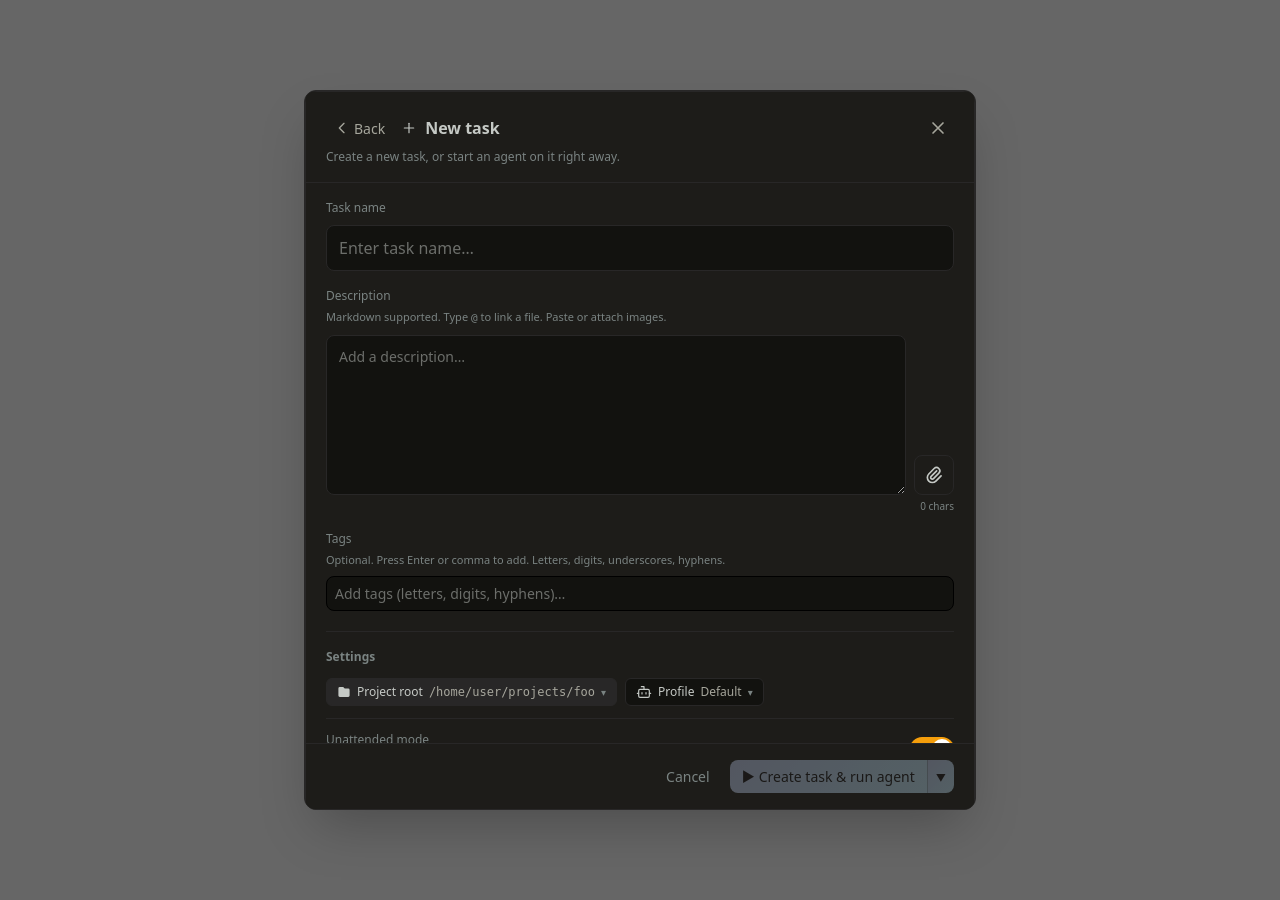
Test: KanbanTaskDetailDialog — layout › create mode: cwd picker opens at cwd_session (folder query fix) › when cwd_session is set, the picker opens AT cwd_session (not at "/")
Step 1. Click the button with test id "kanban-task-detail-cwd-picker" → (472, 692), box [326,678,617,706]
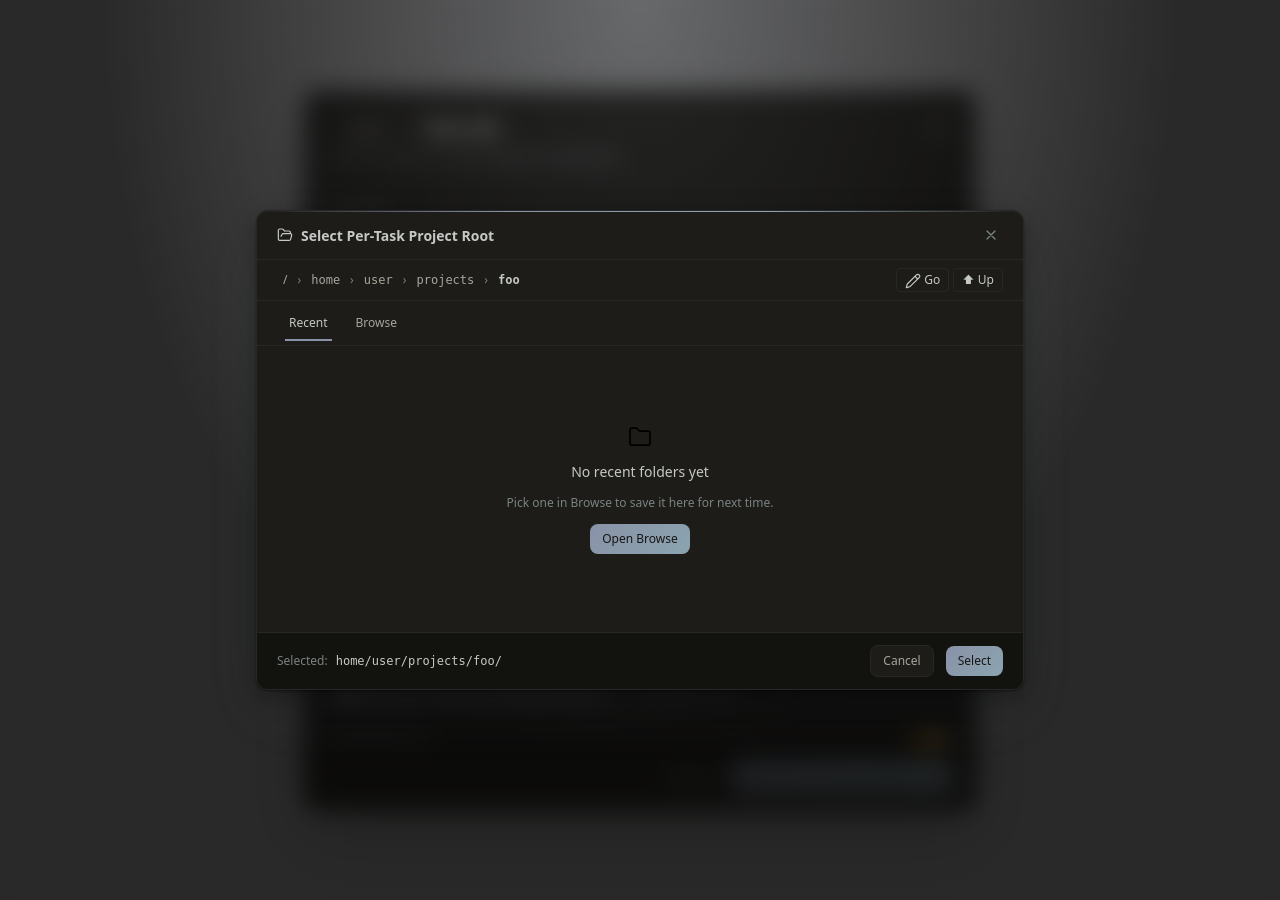
Step 2. Click the tab with test id "file-picker-tab-browse" → (376, 323), box [344,305,409,341]
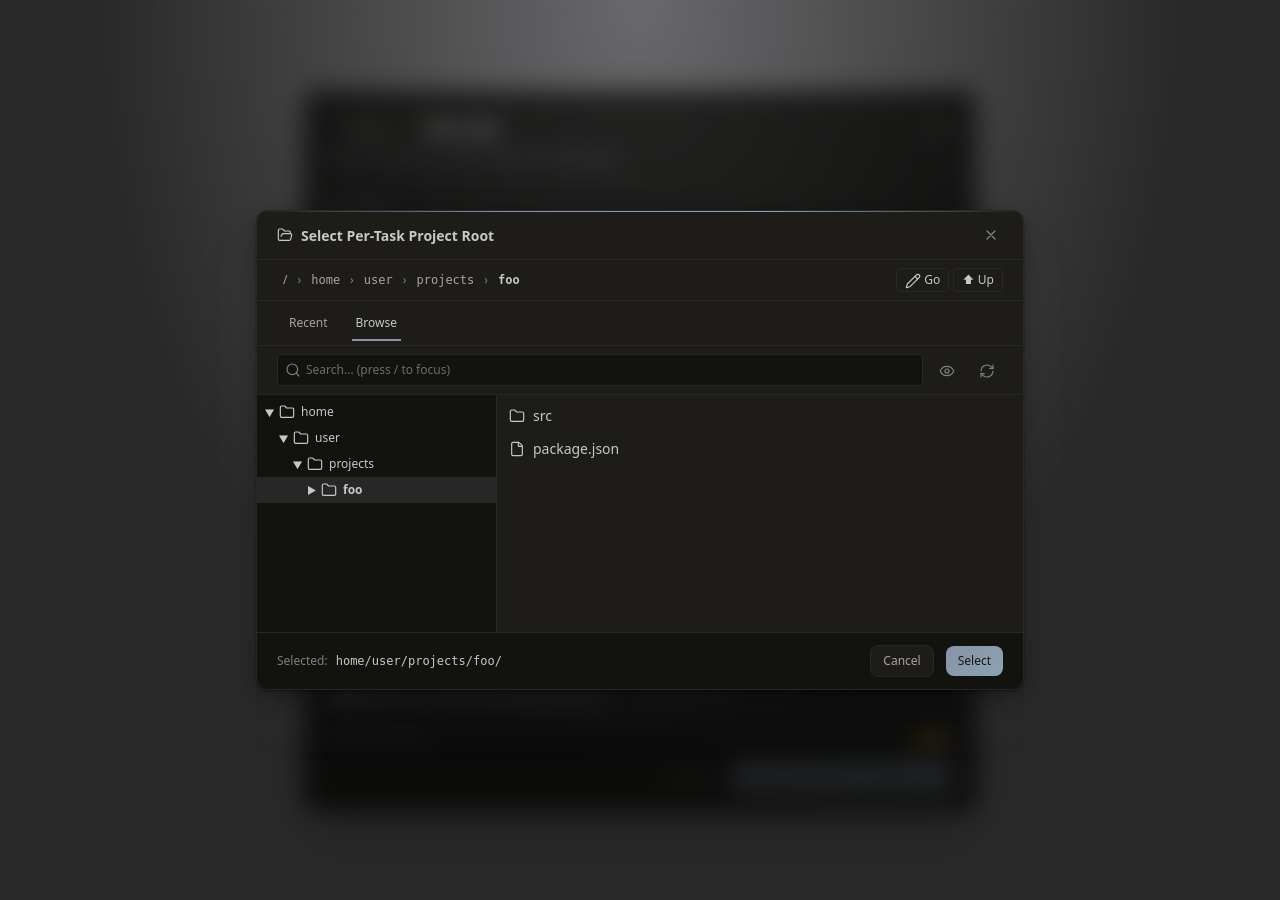
Expected: the button with test id "file-picker-item-/home/user/projects/foo/src" is shown, [497,399,1023,432]
